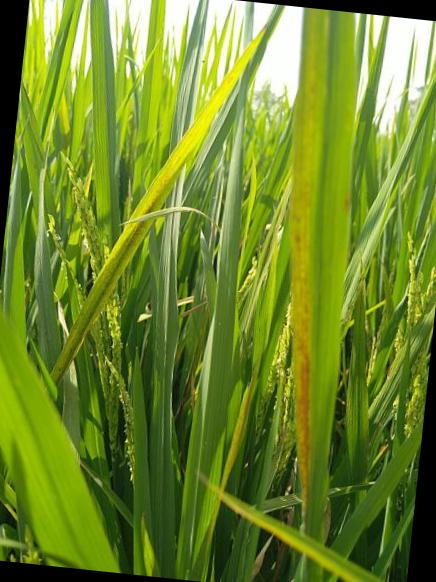Leaf Streak: (137, 33, 262, 218), (50, 222, 153, 389), (290, 90, 319, 535)
